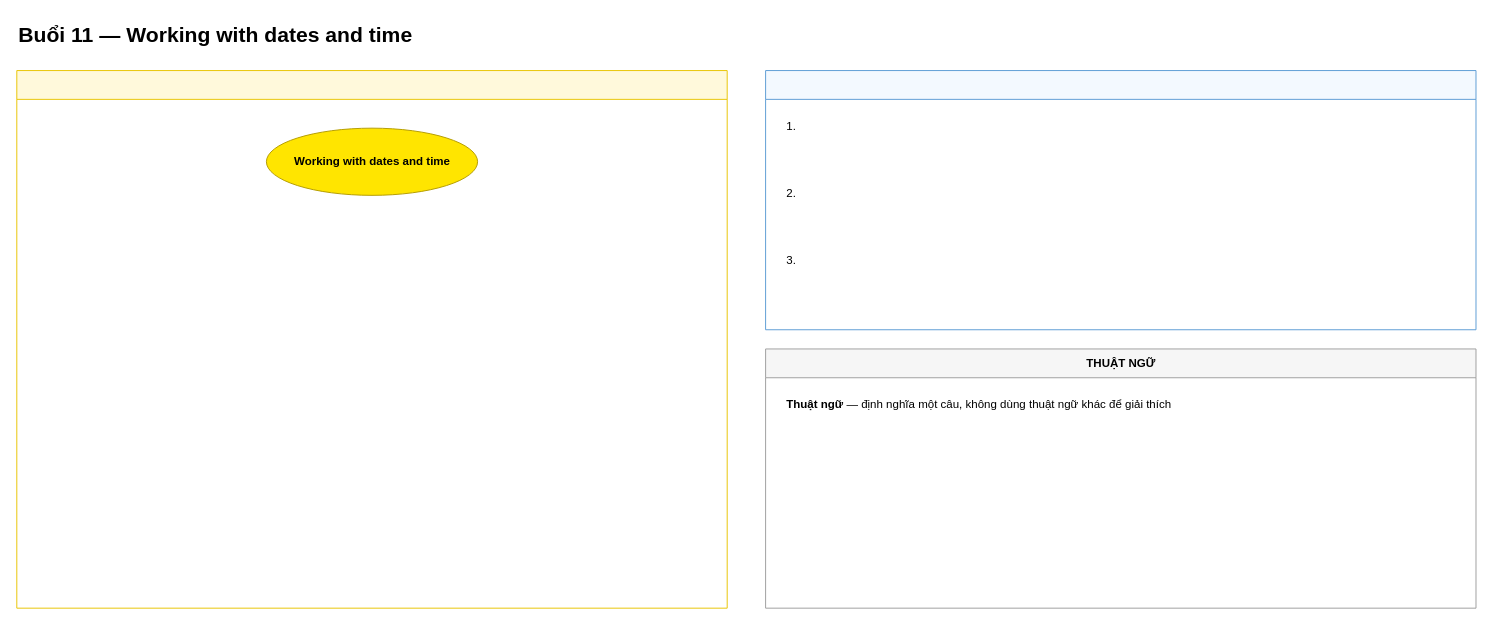
Some shapes in this 1493 by 625 pixel diagram are drawn without their labels. Each missing label, with the box of its shape:
KEY TAKEAWAY — ba điều phải nhớ: (765, 70, 1476, 330)
MINDMAP: (16, 70, 727, 608)
